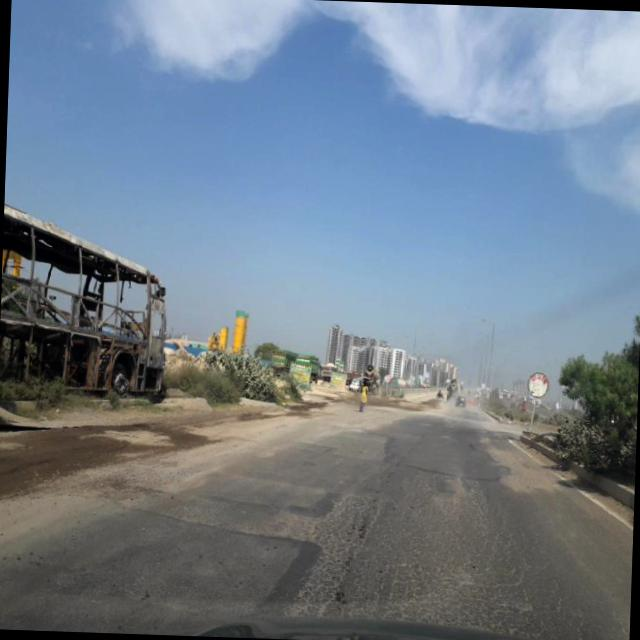crack: (274, 480, 576, 638)
